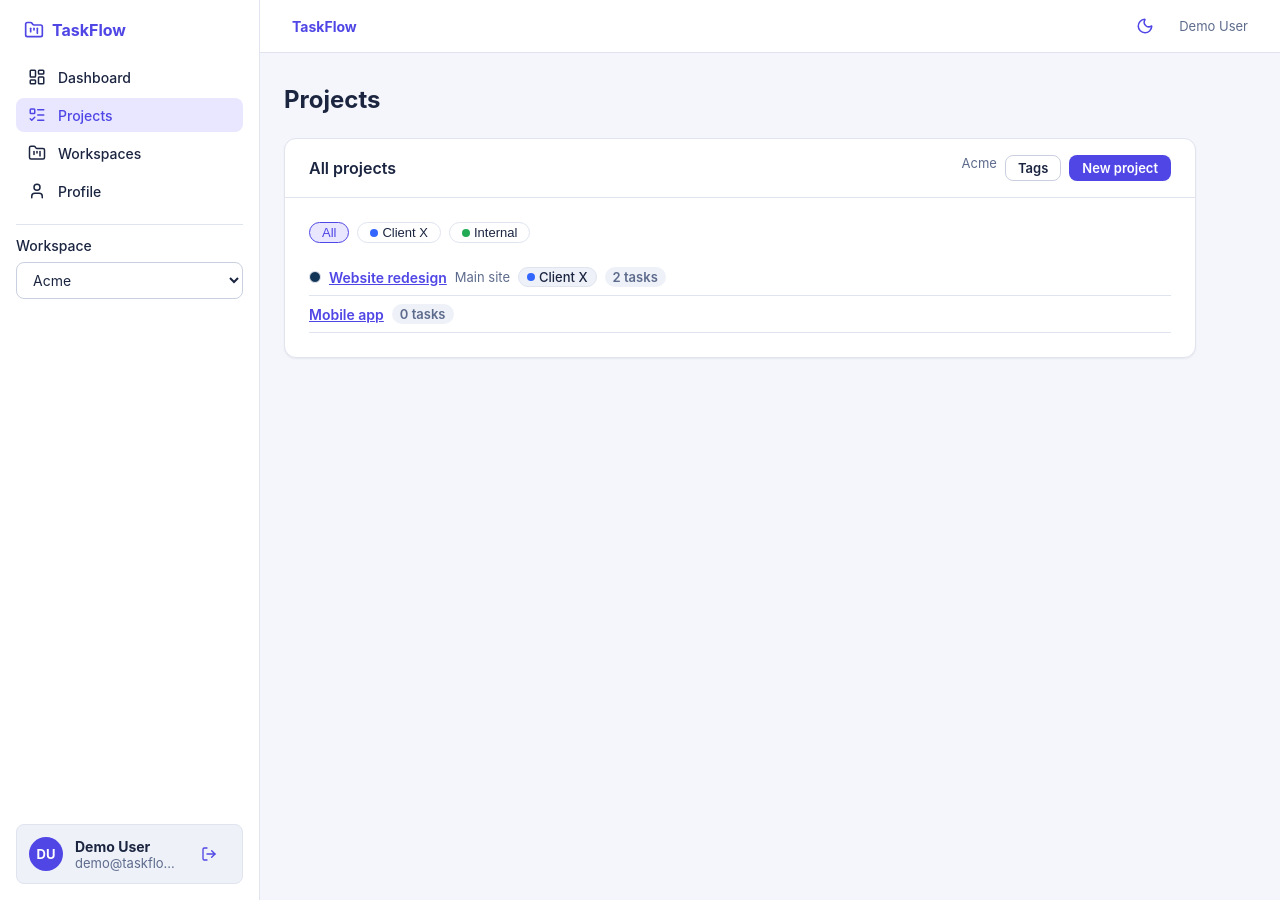
Test: project-tags — "Filter projects by tag" (@w2) › filter chips narrow the project list and restore it
expect the link "Website redesign" is shown: met, box [329,268,447,286]
expect the link "Mobile app" is shown: met, box [309,306,384,322]
Click the button "Client X": (399, 232) [358,222,441,243]
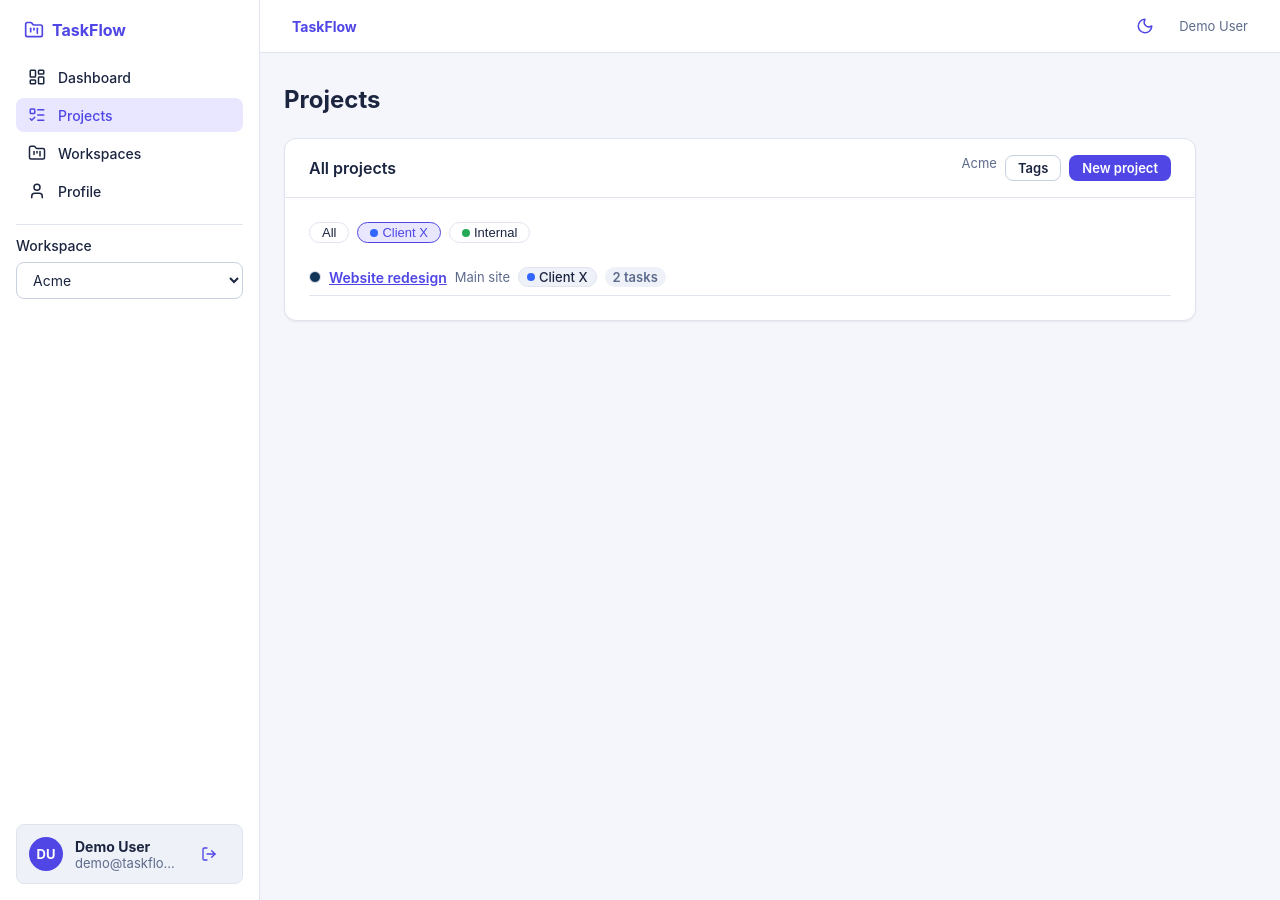
expect the link "Website redesign" is shown: met, box [329,268,447,286]
expect the link "Mobile app" is gone: met
Note: second distinct tag chip also filters
Click the button "Internal": (490, 232) [449,222,530,243]
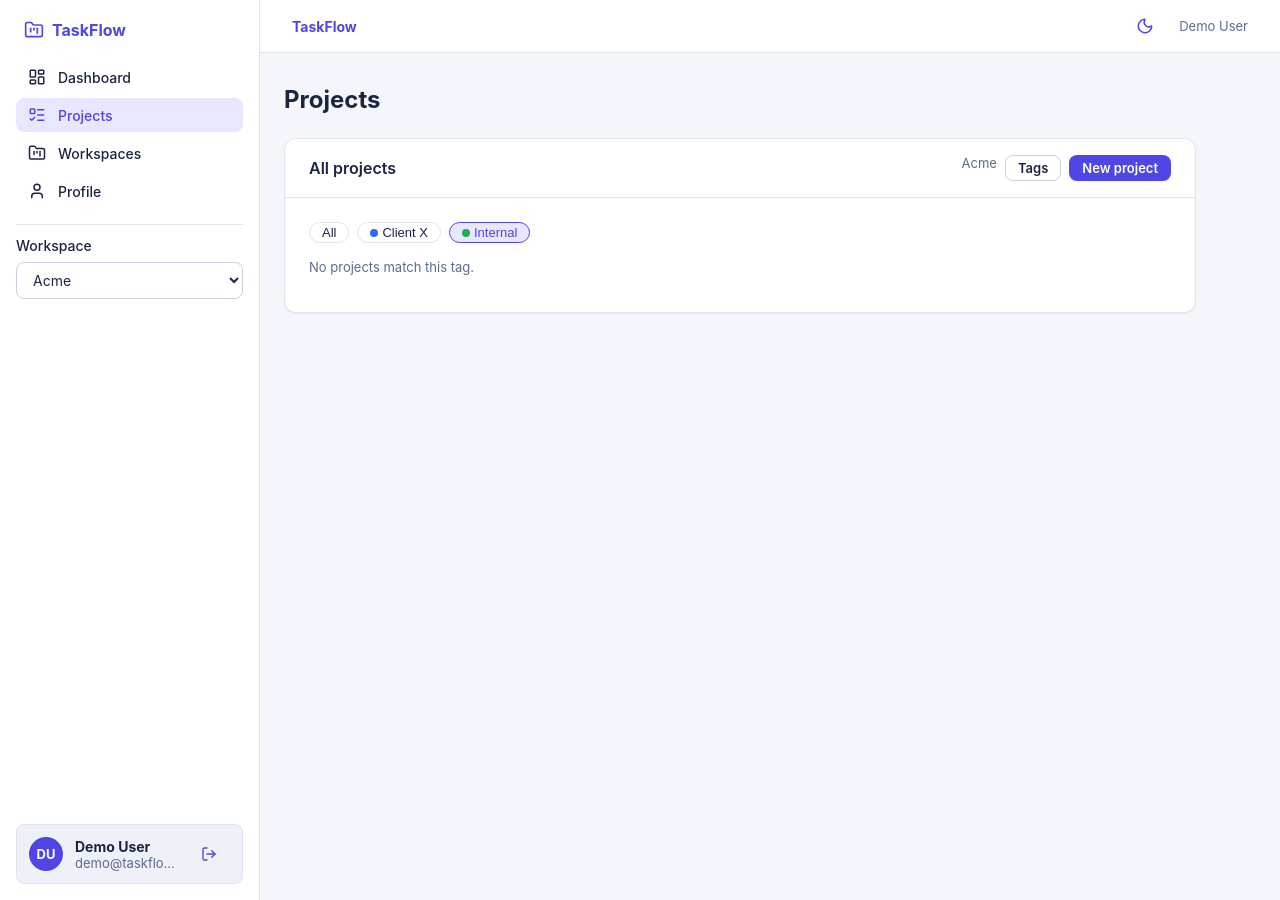
expect the link "Website redesign" is gone: met
Note: "All" restores
Click the button "All": (329, 232) [309,222,350,243]
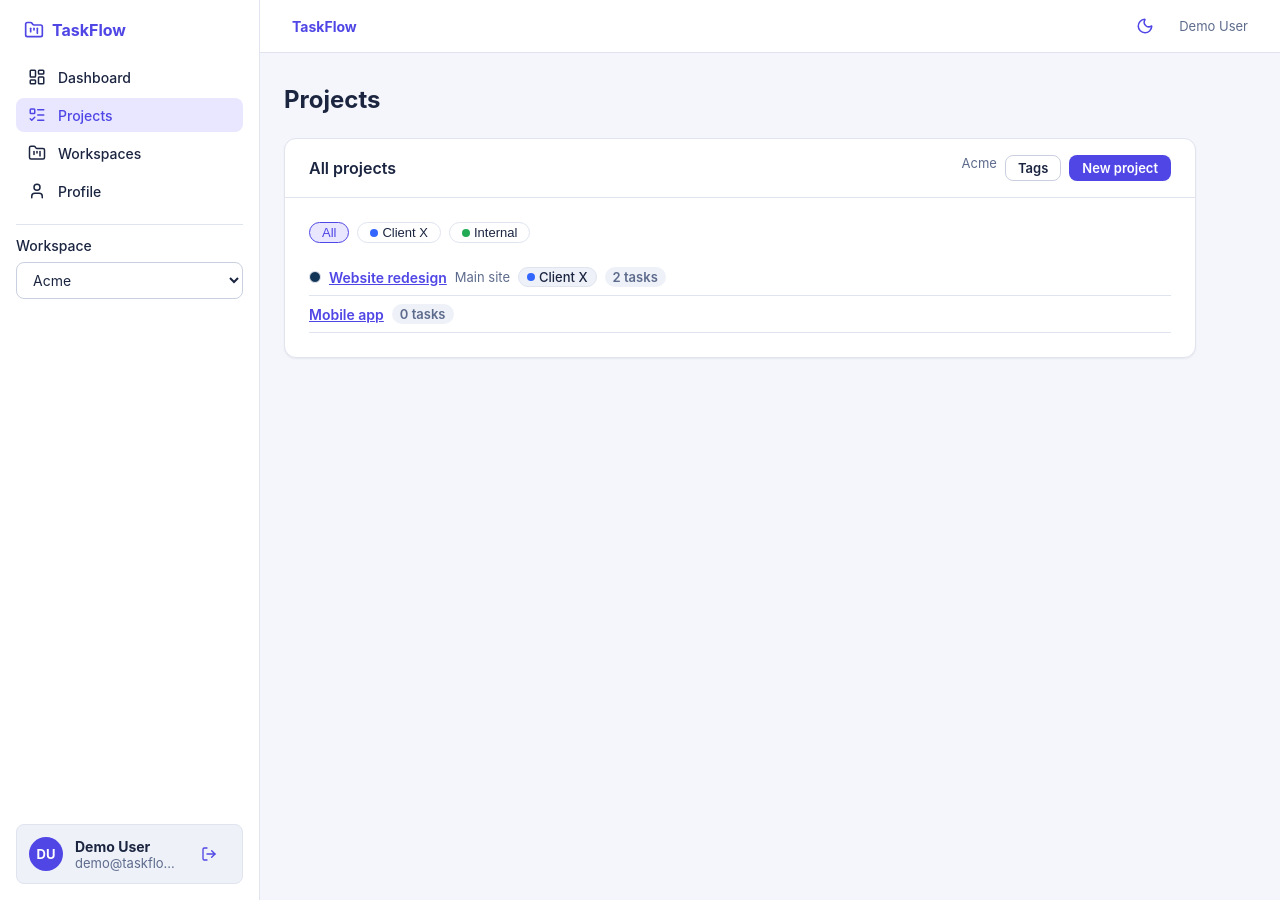
expect the link "Website redesign" is shown: met, box [329,268,447,286]
expect the link "Mobile app" is shown: met, box [309,306,384,322]
